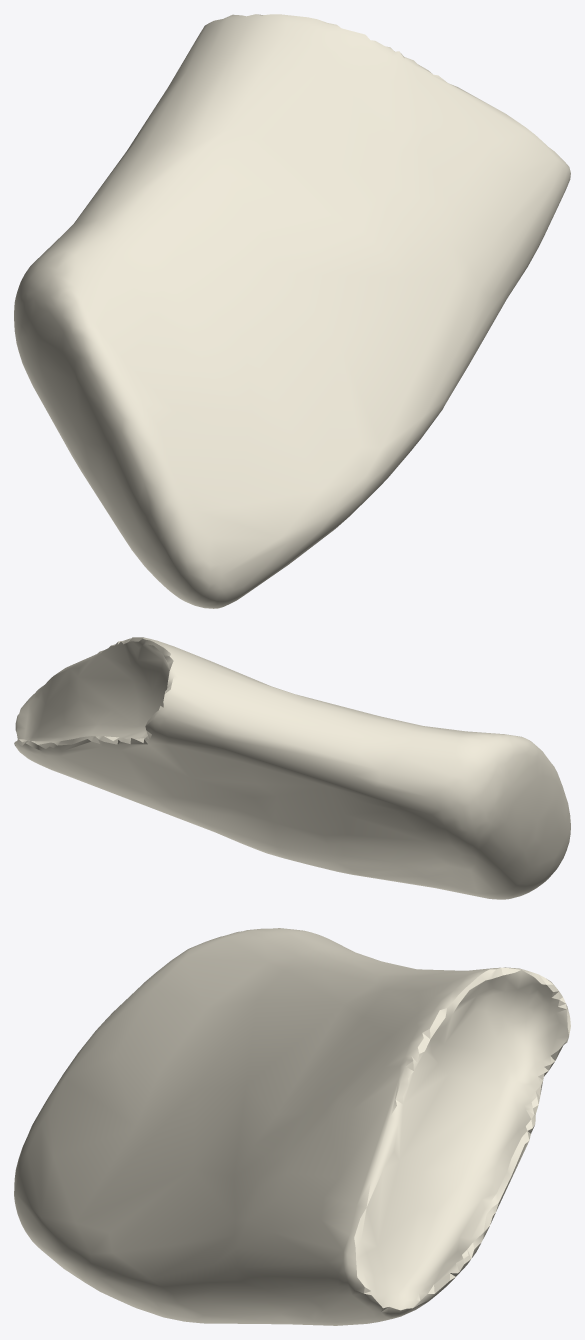
Rendered from fma8005.glb.
3 views of the same model, one above another, from view 1: azimuth 30°, elevation 25°; view 2: azimuth 150°, elevation 25°; view 3: azimuth 270°, elevation 25° (orthographic). The views are drawn at different scales.
Visible parts, largest first — view 1: FMA8005; view 2: FMA8005; view 3: FMA8005.
Boxes of the visible parts, x1,y1,x2,y2 form: FMA8005: (14, 14, 570, 608); FMA8005: (14, 637, 570, 899); FMA8005: (14, 928, 570, 1325).
Size of the model in its own units: 0.0301 by 0.0191 by 0.0233.
